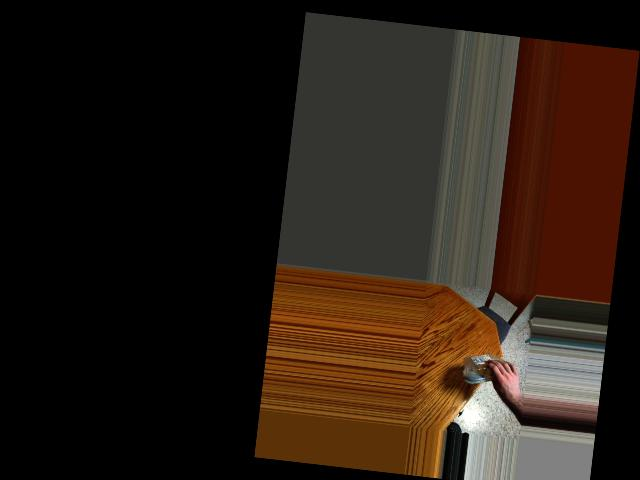cheese: (469, 351, 517, 392)
